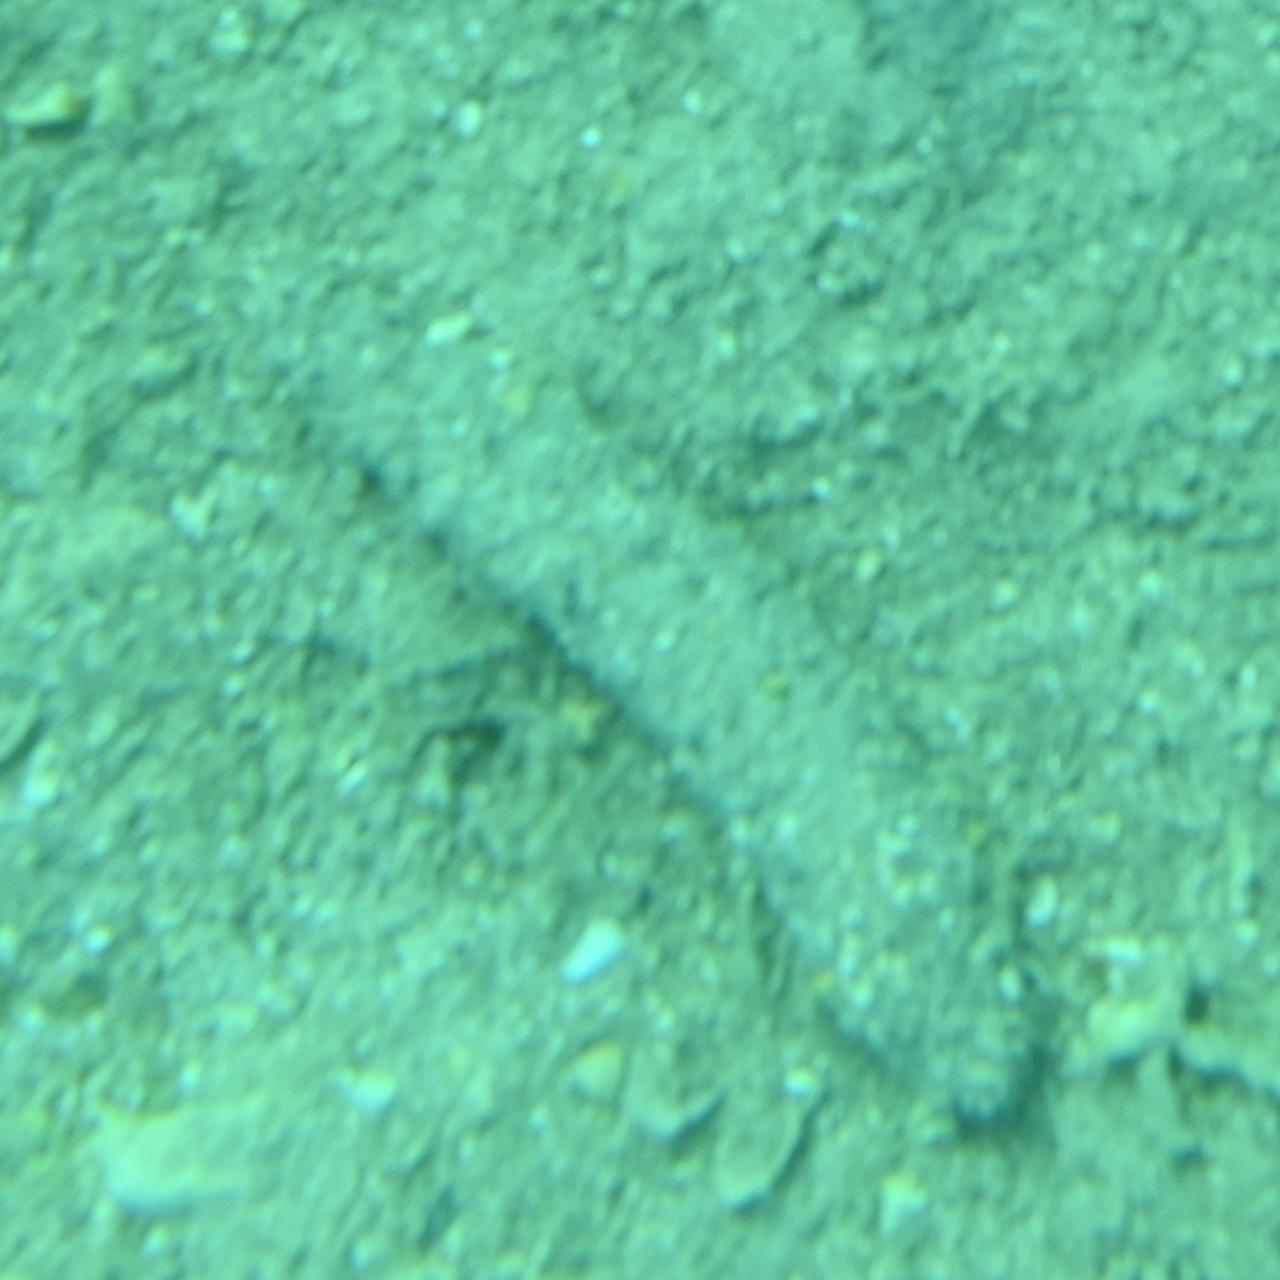Holothuria tubulosa: (208, 270, 1072, 1150)
